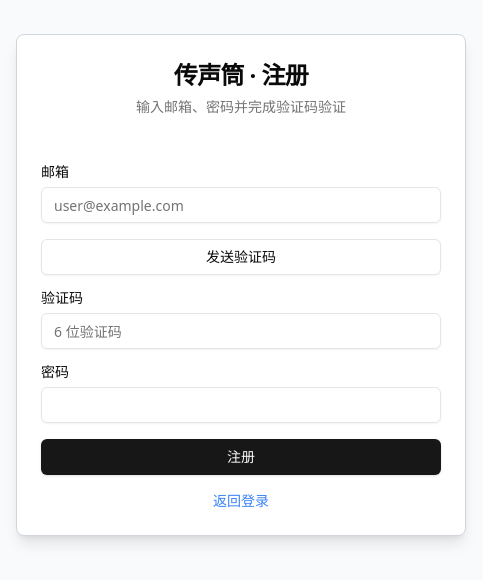
Register Page › displays server error for unexpected errors
Type "test@test.com" into the field labelled "邮箱" at (241, 205), box x1=41 y1=187 x2=441 y2=223
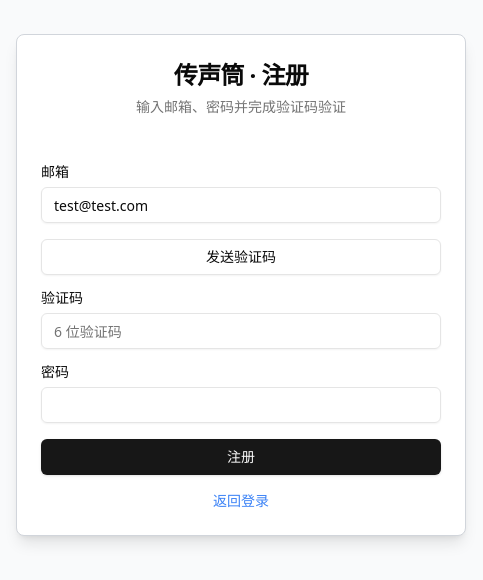
Type "123456" into the field labelled "验证码" at (241, 331), box x1=41 y1=313 x2=441 y2=349
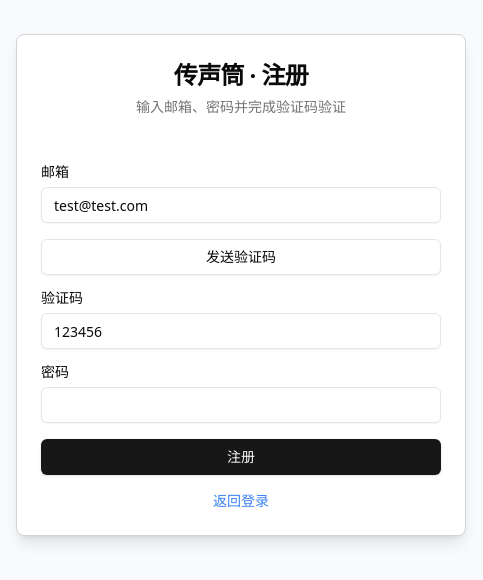
Type "@1231231%a" into the password field labelled "密码" at (241, 405), box x1=41 y1=387 x2=441 y2=423
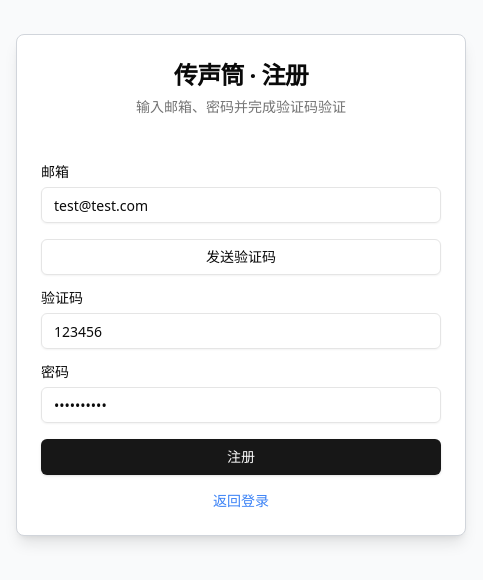
Click the button "注册" at (241, 457), box x1=41 y1=439 x2=441 y2=475
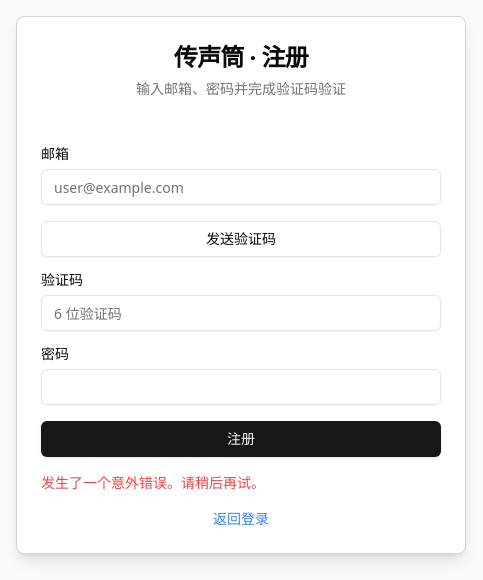
Expected: the text "发生了一个意外错误。请稍后再试。" is shown, x1=41 y1=473 x2=265 y2=492
